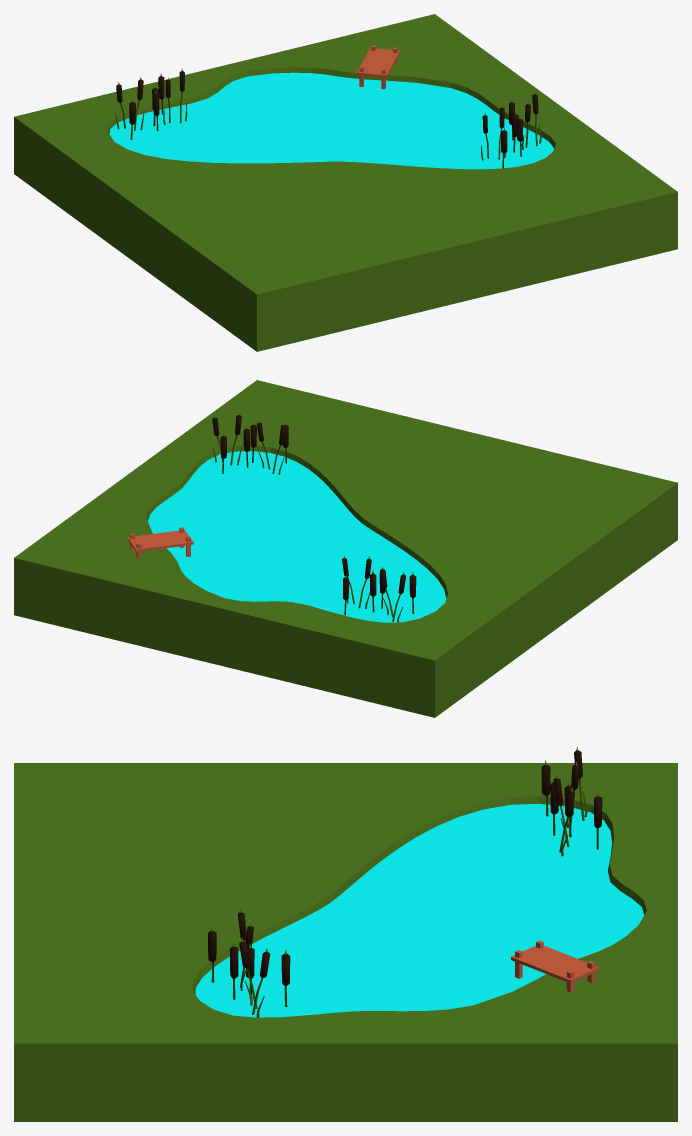
The model's file is rake2.fbx.
The picture shows the model from 3 angles, top to bottom: view 1: azimuth 30°, elevation 25°; view 2: azimuth 150°, elevation 25°; view 3: azimuth 270°, elevation 25°; orthographic projection. The views are drawn at different scales.
Visible parts, largest first — view 1: Cube.068, Cylinder.008, Cylinder.018, Cube.070; view 2: Cube.068, Cylinder.018, Cylinder.008, Cube.070; view 3: Cube.068, Cylinder.018, Cylinder.008, Cube.070.
Boxes of the visible parts, x1,y1,x2,y2 form: Cube.068: (14, 14, 677, 351); Cylinder.008: (115, 68, 187, 139); Cylinder.018: (481, 91, 541, 168); Cube.070: (356, 45, 400, 89); Cube.068: (14, 380, 677, 717); Cylinder.018: (212, 412, 288, 474); Cylinder.008: (342, 556, 416, 622); Cube.070: (127, 527, 193, 558); Cube.068: (14, 763, 677, 1121); Cylinder.018: (208, 908, 290, 1017); Cylinder.008: (541, 747, 602, 856); Cube.070: (511, 940, 599, 992).
Size of the model in its own units: 2851 by 2851 by 666.
